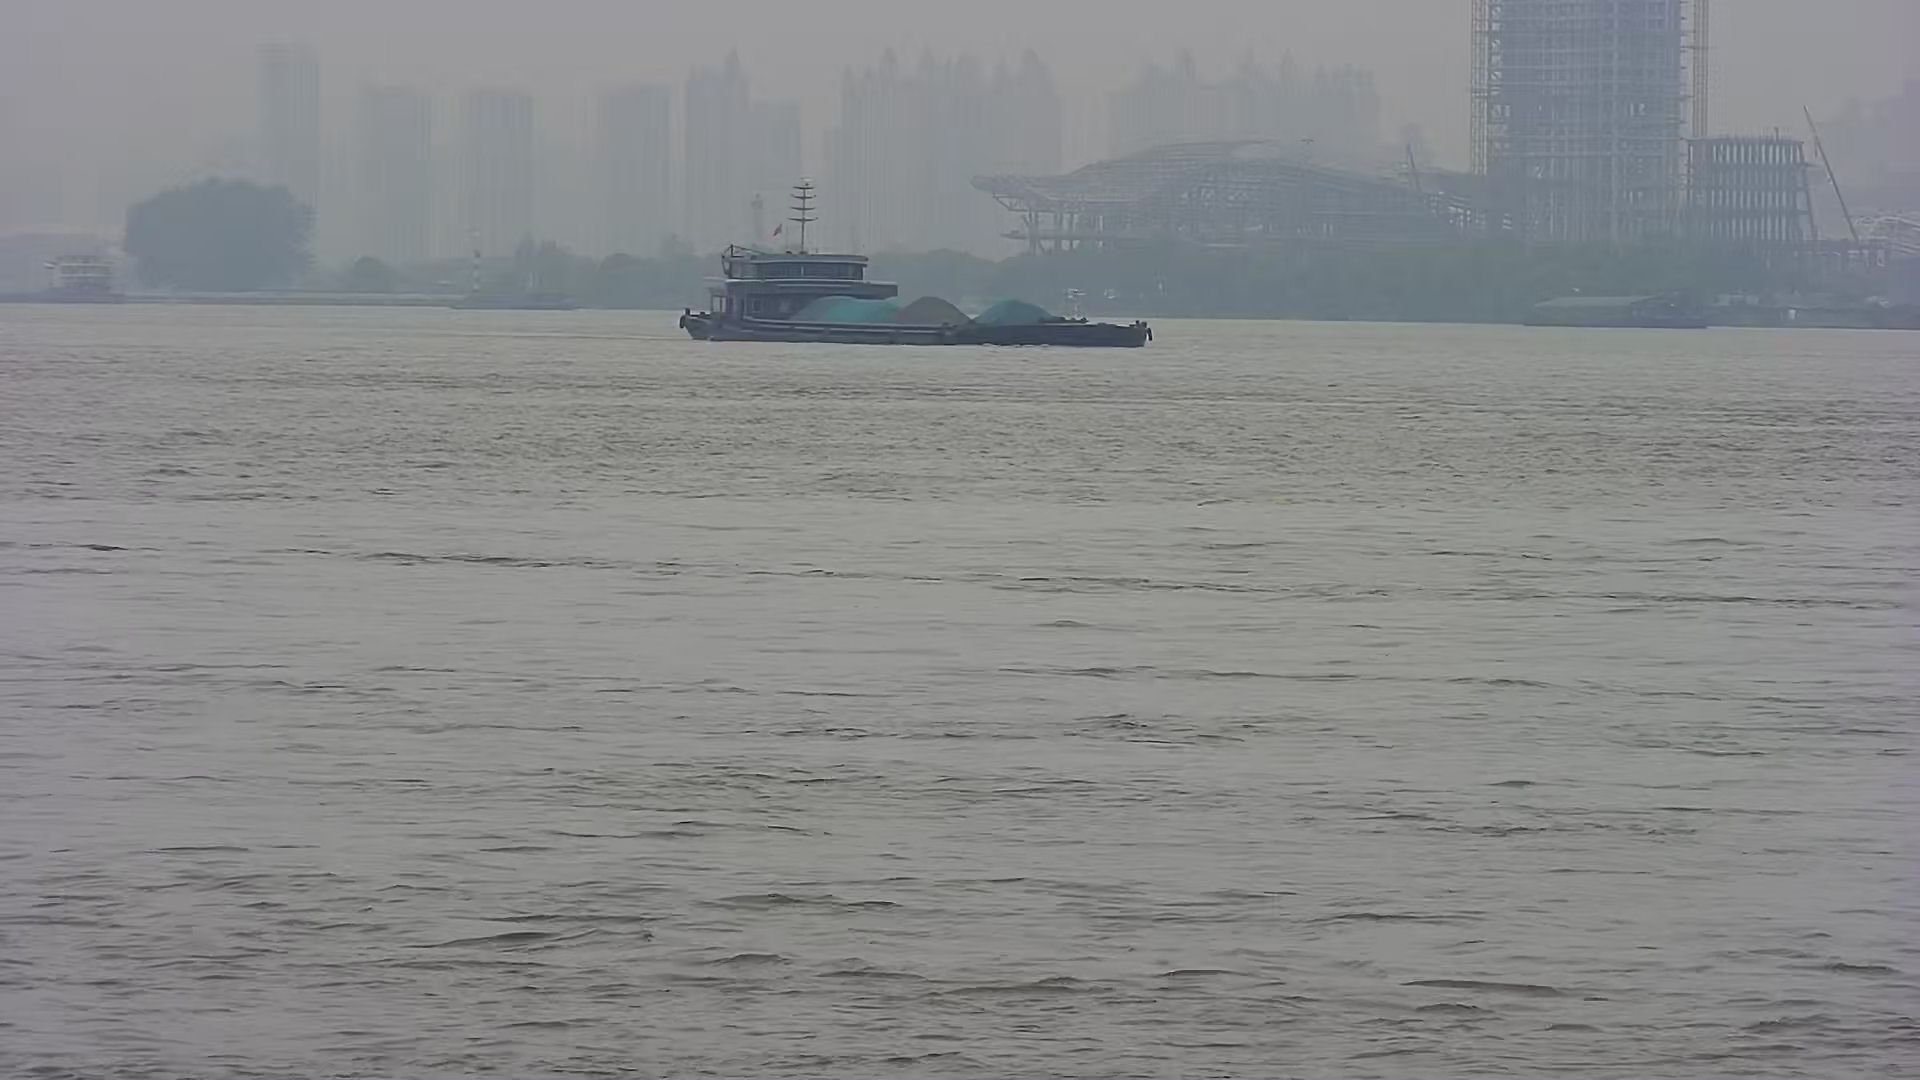ship: (671, 223, 1163, 349), (1519, 284, 1726, 342), (446, 280, 580, 316)
